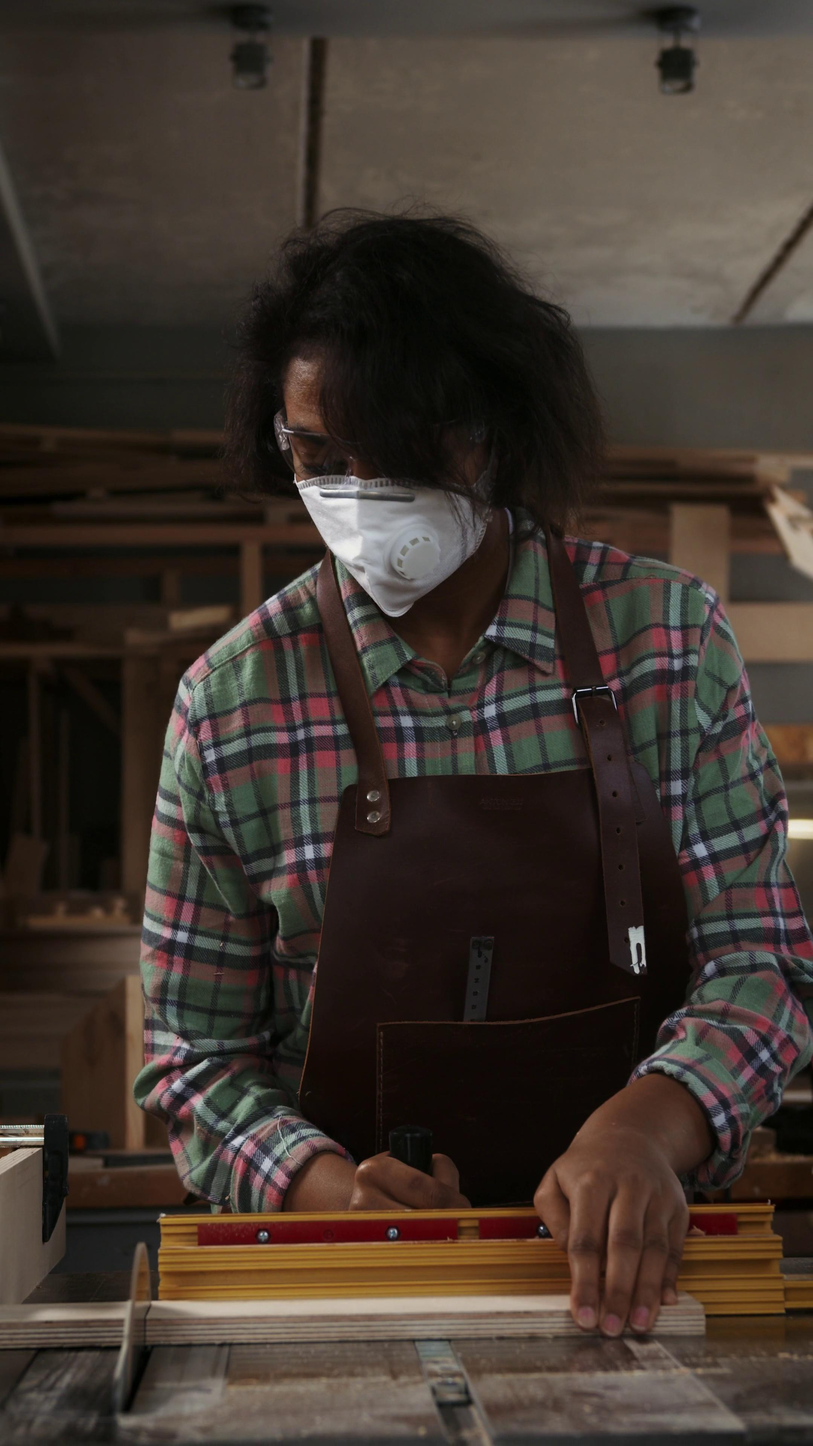mask: (290, 474, 498, 618)
person: (129, 208, 813, 1341)
